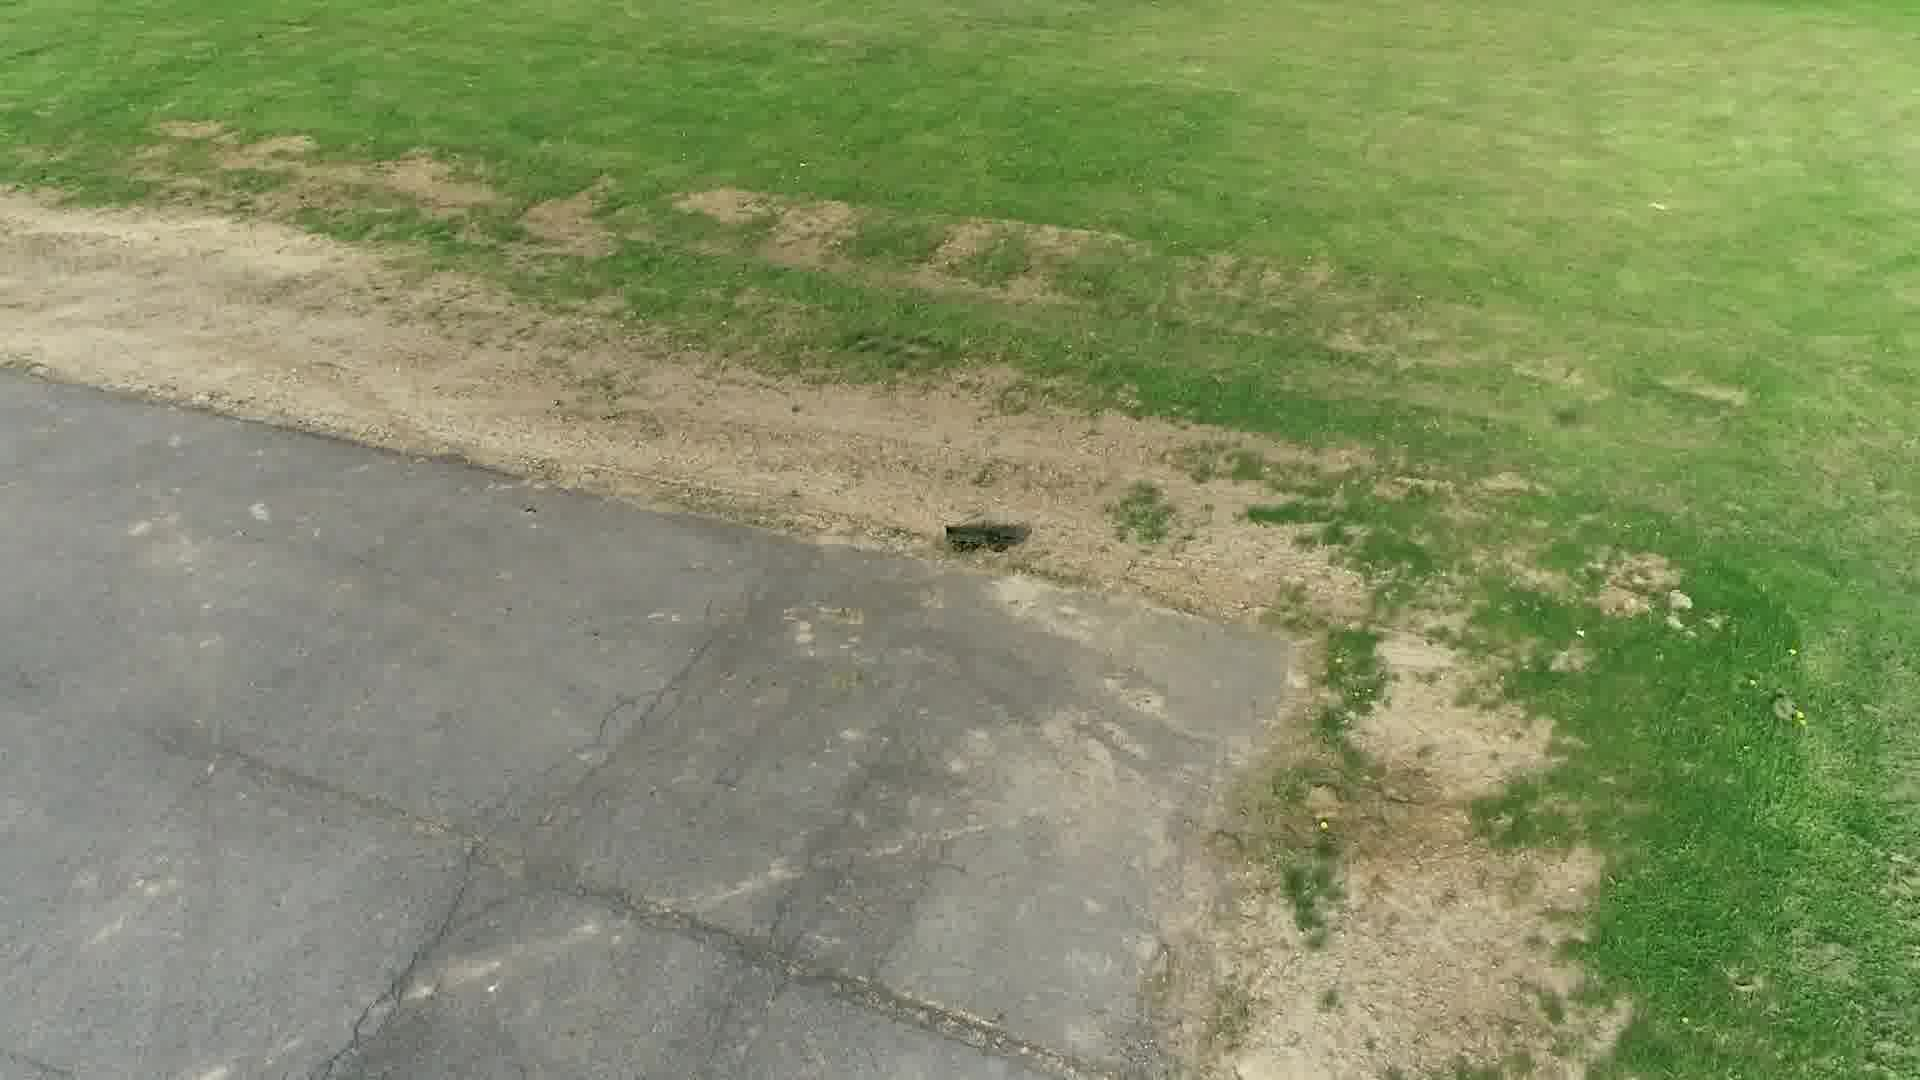transporter9: (943, 520, 1029, 554)
